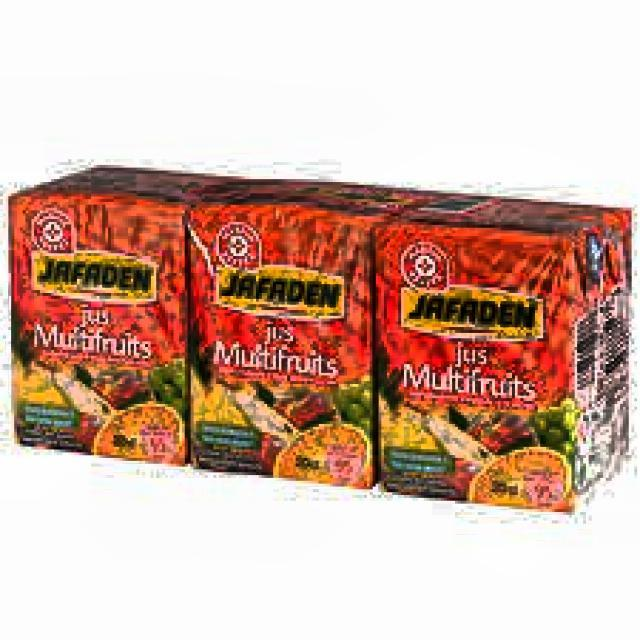cardboard: (6, 162, 634, 515)
